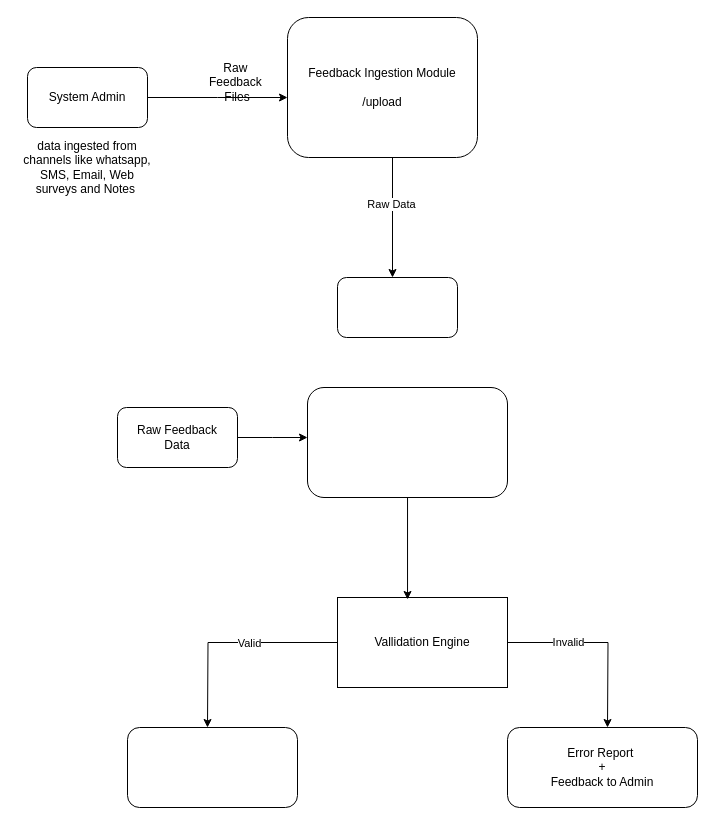
Image size: 715x825. Some labels were removed from this diagram. Each missing label, with the centre of its shape:
Column Mapping Interfaces: point 407,442
Raw Data Storage: point 397,307
Standardized data set: point 212,767
